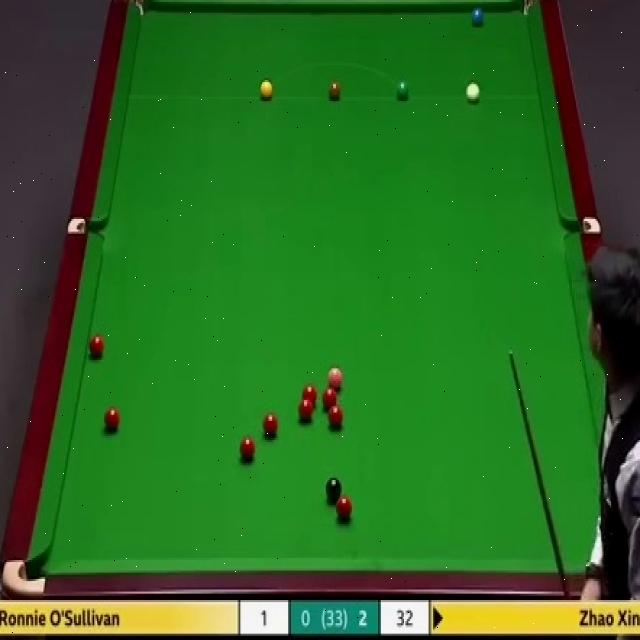black-ball: (324, 476, 342, 506)
blue-ball: (471, 5, 486, 30)
brown-ball: (328, 81, 342, 102)
green-ball: (396, 80, 410, 103)
pink-ball: (324, 364, 344, 390)
red-ball: (101, 403, 121, 435), (239, 436, 257, 466), (335, 496, 353, 522), (262, 412, 279, 437), (297, 399, 314, 423), (88, 334, 104, 359), (301, 384, 318, 406), (328, 404, 343, 428), (321, 388, 338, 408)
white-ball: (464, 80, 481, 104)
yellow-ball: (260, 80, 274, 102)
